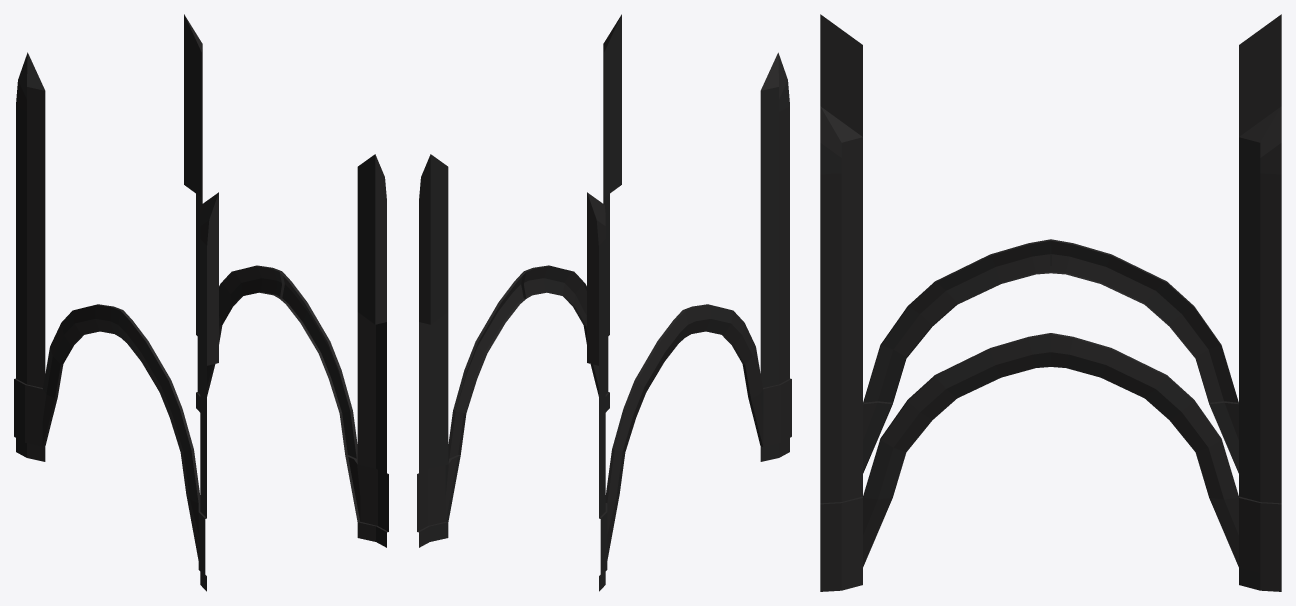
Rendered from BordePuente.fbx.
3 renders of one model, left to right at view 1: azimuth 30°, elevation 25°; view 2: azimuth 150°, elevation 25°; view 3: azimuth 270°, elevation 25°, orthographic. The views are drawn at different scales.
Visible parts, largest first — view 1: Plano.002; view 2: Plano.002; view 3: Plano.002.
Part boxes in pixels (<box>): Plano.002: <box>14,14,388,591</box>; Plano.002: <box>417,14,791,591</box>; Plano.002: <box>820,14,1281,591</box>.
Bounding box in the file's own units: 109 × 225 × 196.
1 material, 1 textured.
